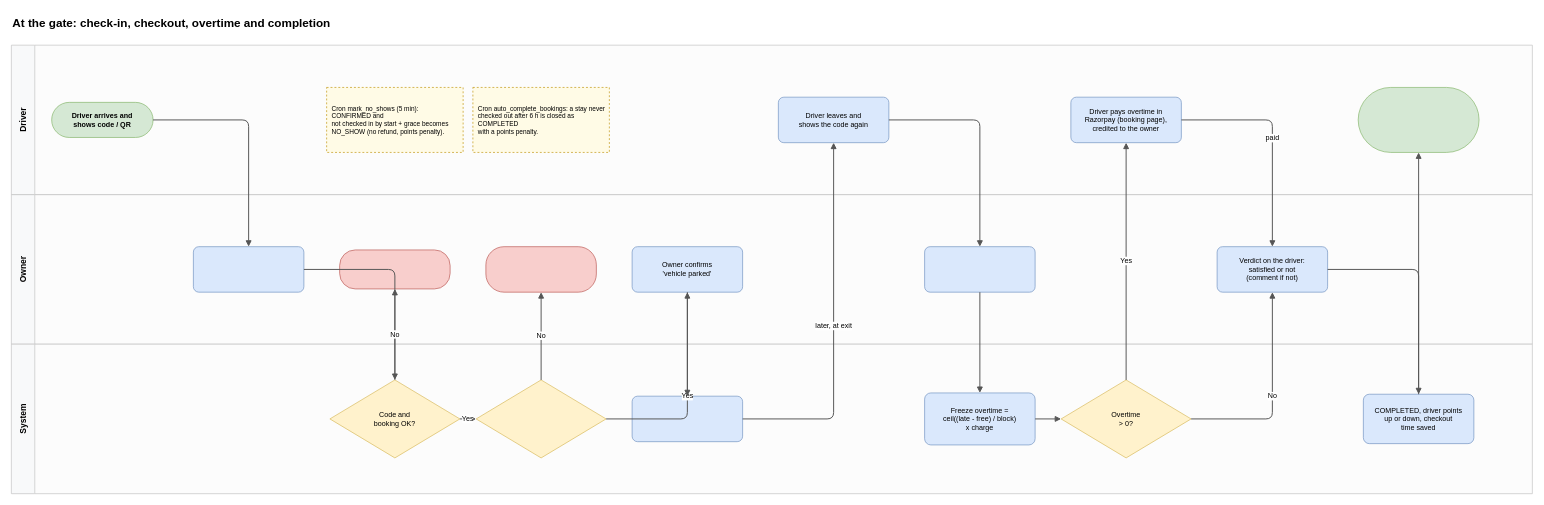
Image size: 1544x505. Some labels were removed from this diagram. The centre of each missing label's shape, as x and y in pixels:
Driver rates the stay (1-5 stars, edit for 7 days). Owner may reply once.: point 1418,119
Error: wrong parking, cancelled or expired code: point 394,269
In check-in window?: point 540,418
Owner enters code: Start checkout: point 979,269
Owner enters or scans the 6-char code: point 248,269
Status CHECKED_IN, time saved, driver notified: point 687,419
Too early (opens 15 min before start) or grace over: no-show: point 540,269
